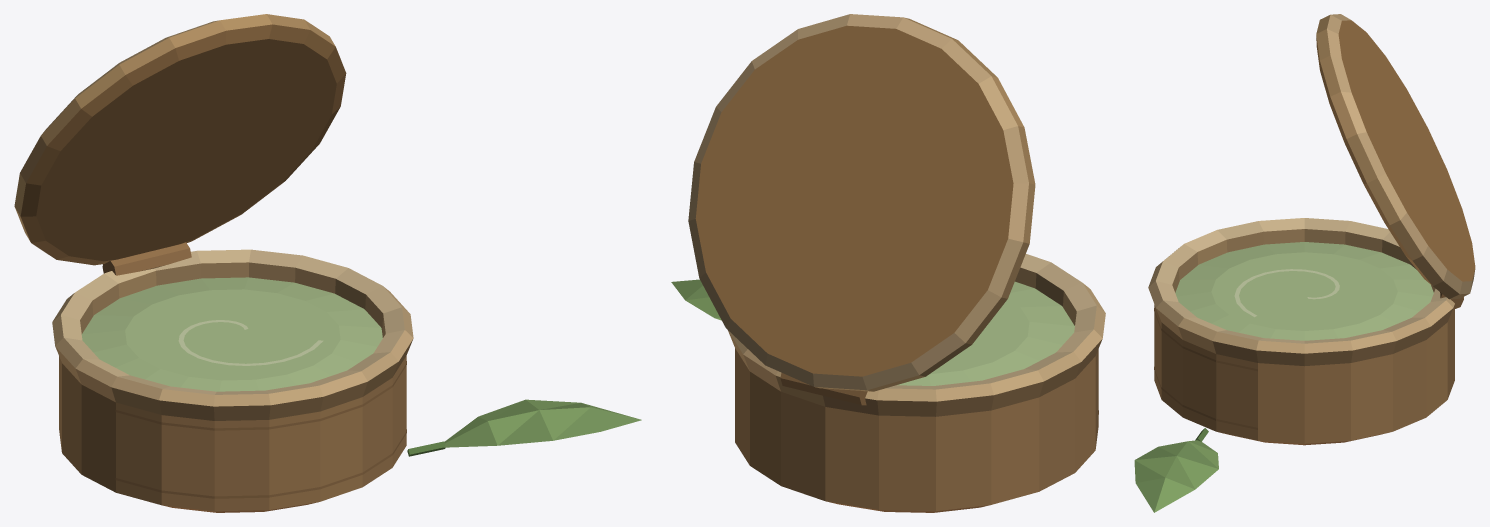
The model's file is herb_salve.glb.
3 renders of one model, left to right at view 1: azimuth 30°, elevation 25°; view 2: azimuth 150°, elevation 25°; view 3: azimuth 270°, elevation 25°, orthographic. The views are drawn at different scales.
Visible parts, largest first — view 1: 浅圆木盒, 半开木盖, 浅绿药膏, 草药尖叶; view 2: 半开木盖, 浅圆木盒, 浅绿药膏, 草药尖叶; view 3: 浅圆木盒, 半开木盖, 浅绿药膏, 草药尖叶.
Boxes of the visible parts, left/top/right/bottom form: 浅圆木盒: left=52, top=242, right=413, bottom=512; 半开木盖: left=14, top=14, right=346, bottom=265; 浅绿药膏: left=81, top=277, right=382, bottom=391; 草药尖叶: left=407, top=399, right=641, bottom=456; 半开木盖: left=688, top=14, right=1035, bottom=391; 浅圆木盒: left=728, top=254, right=1105, bottom=512; 浅绿药膏: left=897, top=281, right=1074, bottom=385; 草药尖叶: left=671, top=279, right=721, bottom=320; 浅圆木盒: left=1148, top=218, right=1463, bottom=445; 半开木盖: left=1316, top=14, right=1475, bottom=299; 浅绿药膏: left=1175, top=242, right=1433, bottom=340; 草药尖叶: left=1134, top=428, right=1218, bottom=512.
Size of the model in its own units: 0.317 by 0.2658 by 0.2267.
